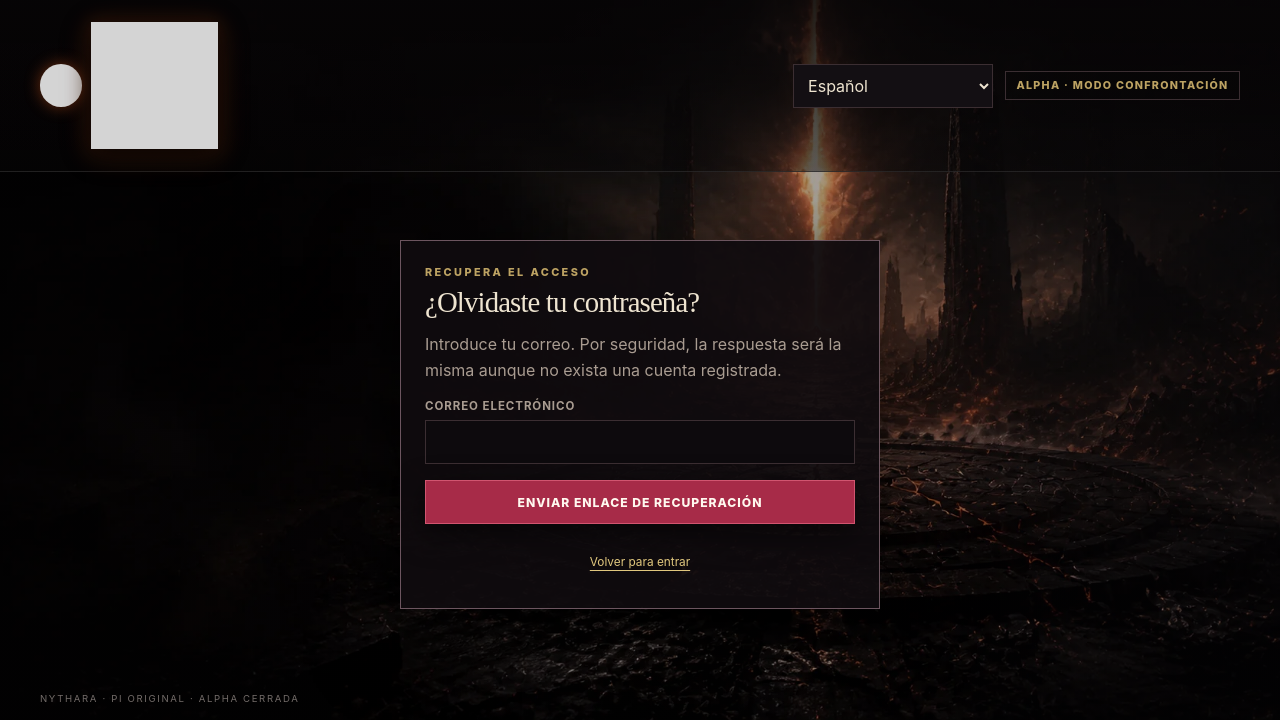
Test: recuperação de senha › envia o locale e mostra sempre a resposta não enumerável
Type "player@example.test" into the field at coordinates (640, 442), box [425,420,855,464]
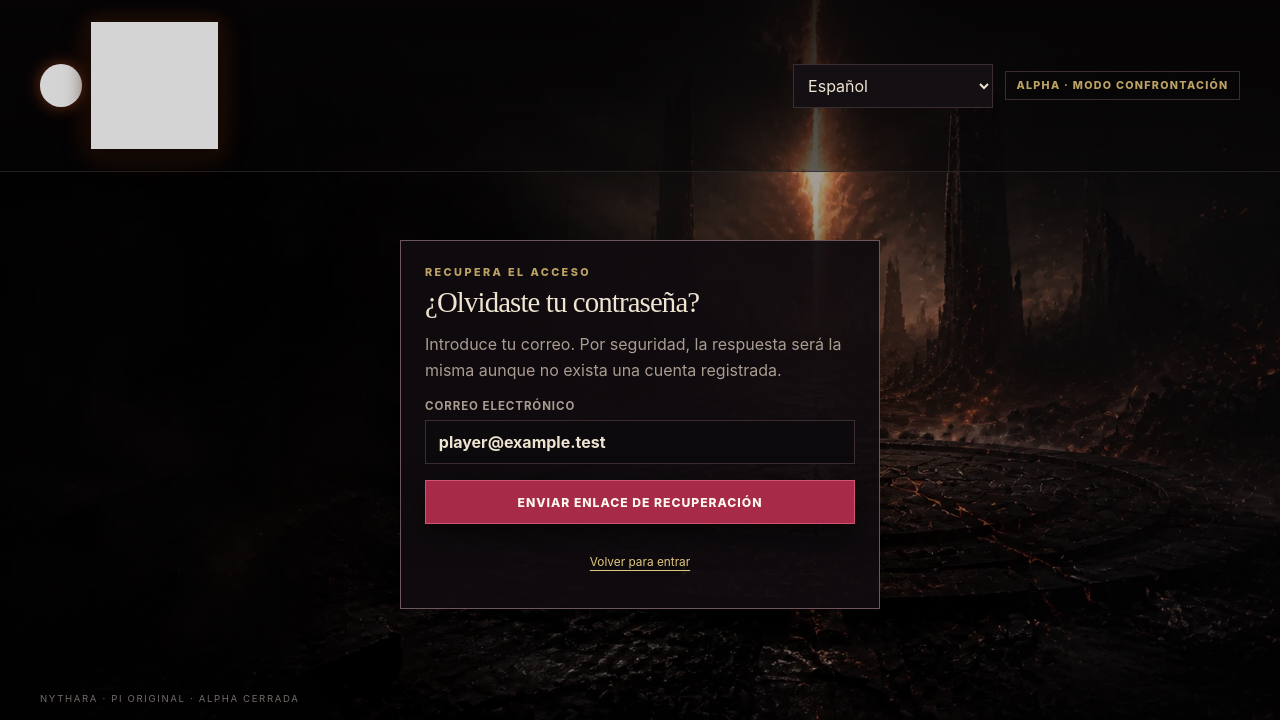
Click the button "Enviar enlace de recuperación" at coordinates (640, 502), box [425,480,855,524]
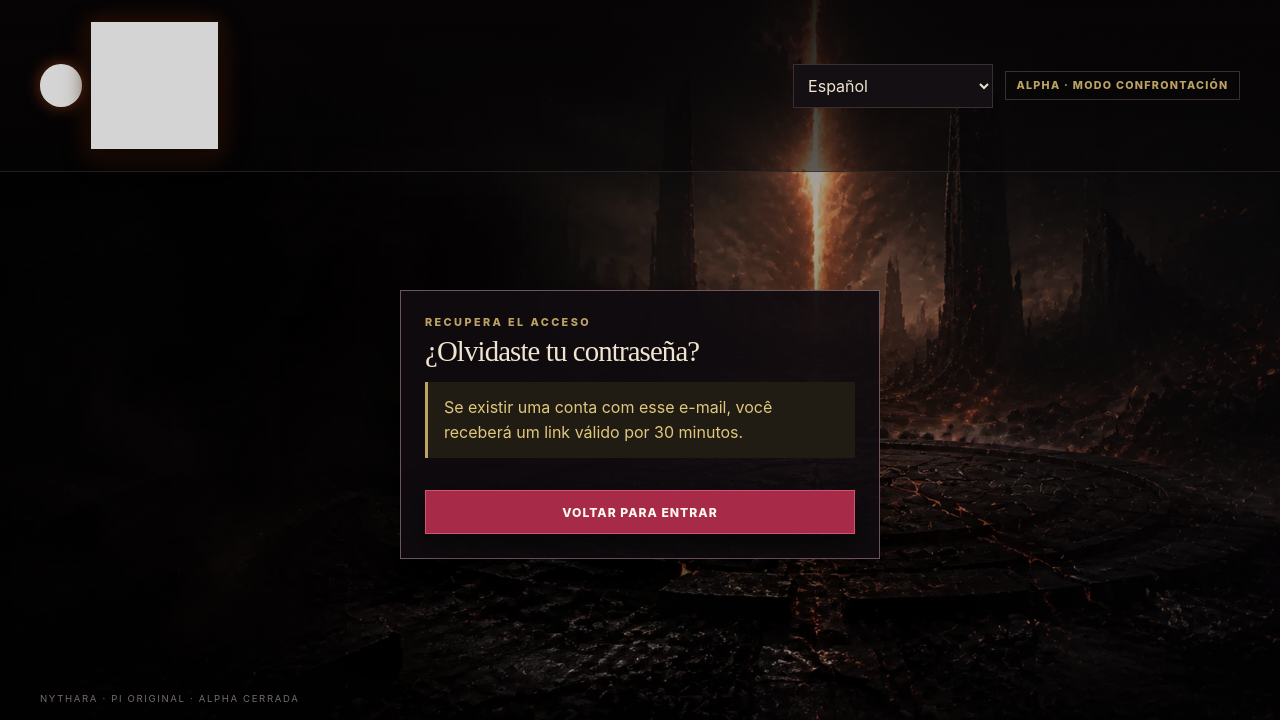
Now the message is shown, box [425,382,855,458]
